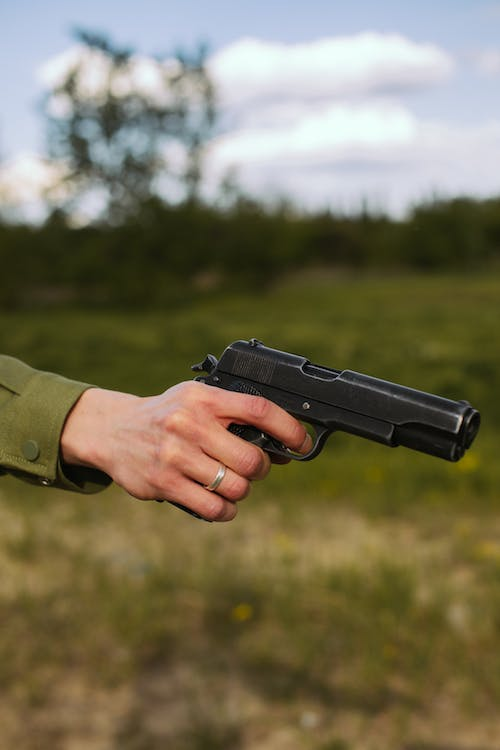gun: (164, 337, 483, 525)
